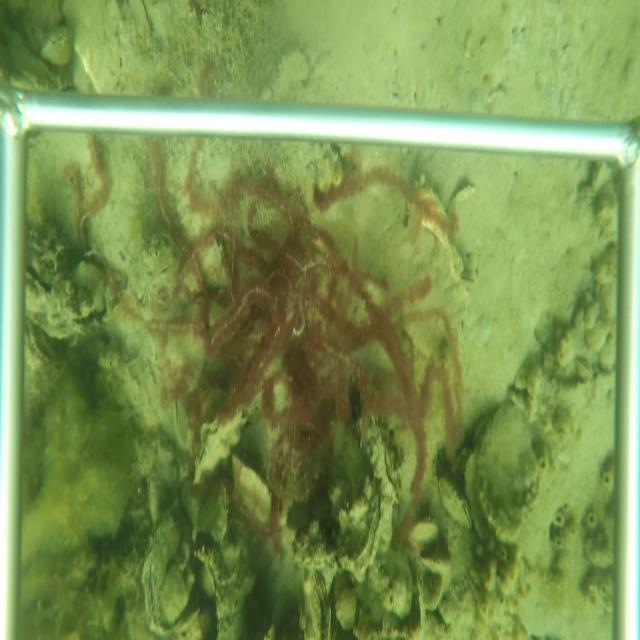Oyster-Closed: (337, 484, 385, 584), (359, 411, 405, 500), (194, 408, 251, 479), (439, 479, 473, 529), (38, 22, 73, 65), (145, 468, 160, 524)
Oyster-Indeterminate: (476, 403, 543, 548), (142, 504, 202, 636), (230, 452, 274, 524)
